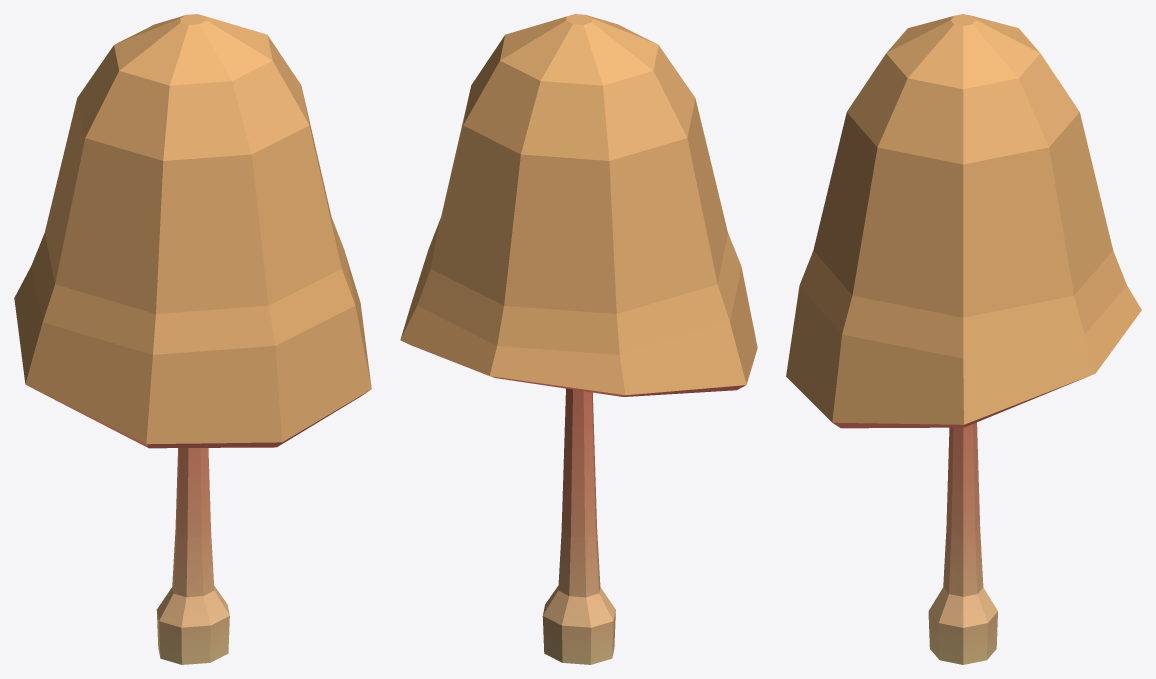
The model's file is Garden_GhostShroom01.fbx.
3 renders of one model, left to right at view 1: azimuth 30°, elevation 25°; view 2: azimuth 150°, elevation 25°; view 3: azimuth 270°, elevation 25°, orthographic.
Parts seen in each view (by area): view 1: Cylinder.318; view 2: Cylinder.318; view 3: Cylinder.318.
Part boxes in pixels (x1,y1,x2,y2): Cylinder.318: (14,14,371,664); Cylinder.318: (400,14,757,664); Cylinder.318: (786,14,1141,664).
Size of the model in its own units: 34.7 by 62.43 by 32.02.
